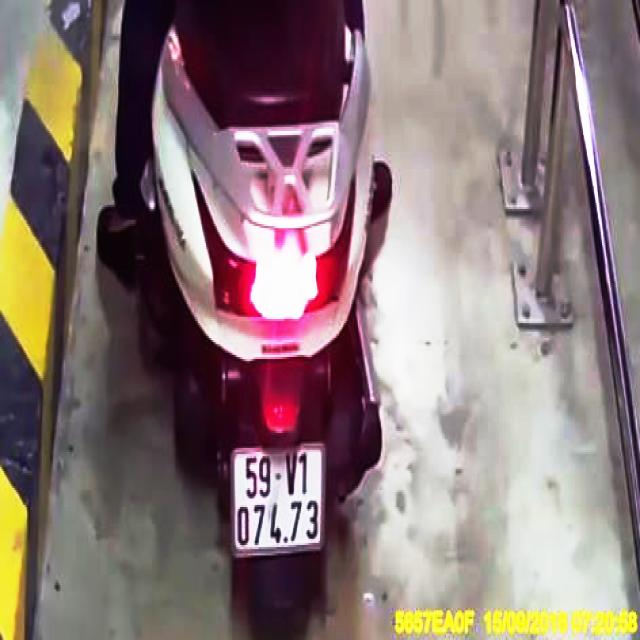license_plate: (235, 445, 324, 557)
